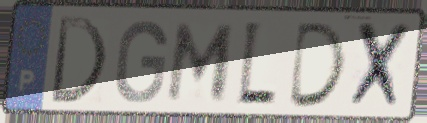D: (47, 13, 110, 107), (285, 20, 350, 110)
G: (111, 18, 170, 106)
L: (234, 17, 279, 110)
M: (163, 20, 239, 104)
X: (345, 19, 415, 113)
